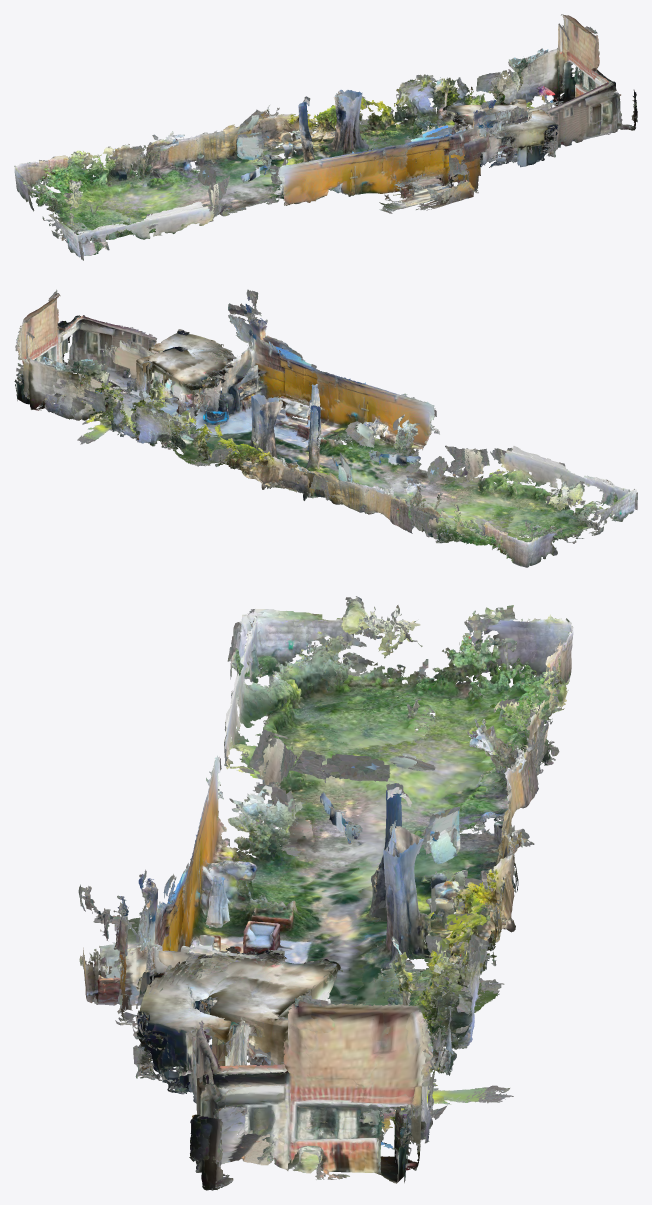
Rendered from photo_mobile.glb.
3 views of the same model, one above another, from view 1: azimuth 30°, elevation 25°; view 2: azimuth 150°, elevation 25°; view 3: azimuth 270°, elevation 25° (orthographic). The views are drawn at different scales.
Size of the model in its own units: 33.65 by 5.46 by 13.02.
Materials: 1 (1 with a texture image).
